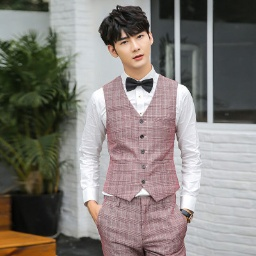face: (92, 5, 154, 67)
